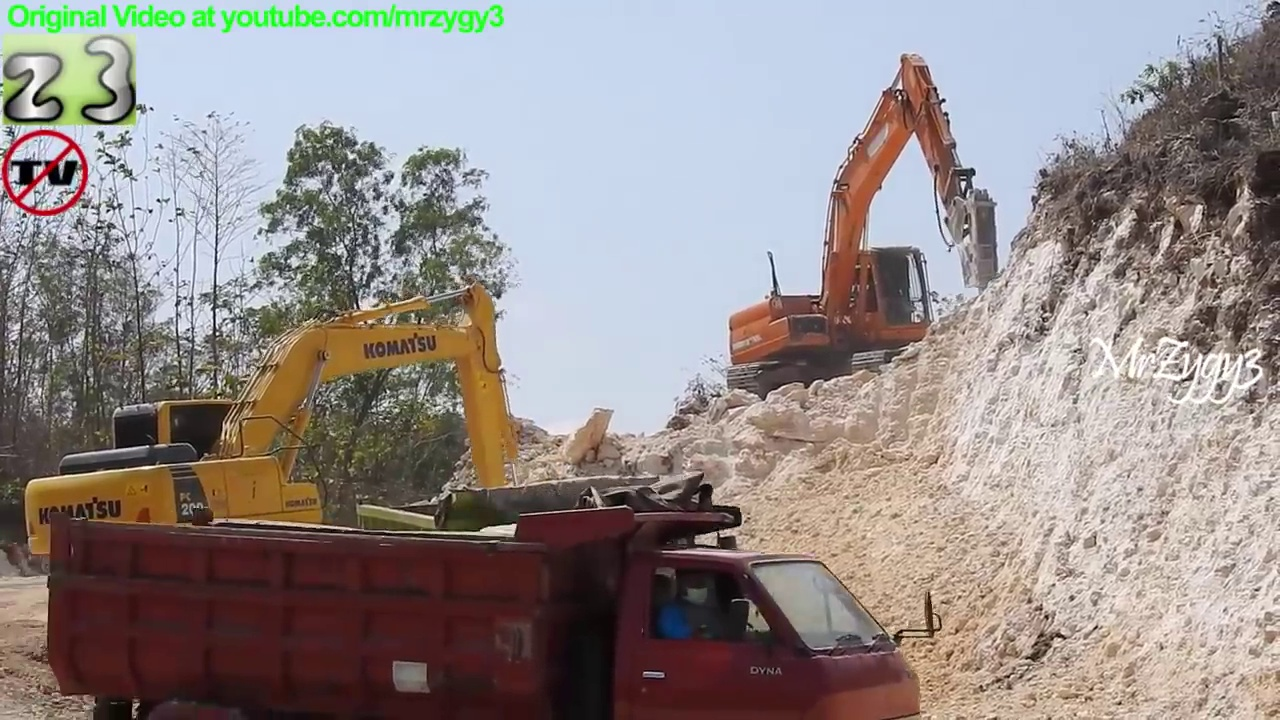excavator: (15, 272, 548, 613), (717, 44, 1006, 407)
truck: (36, 495, 951, 720), (351, 464, 755, 690)
